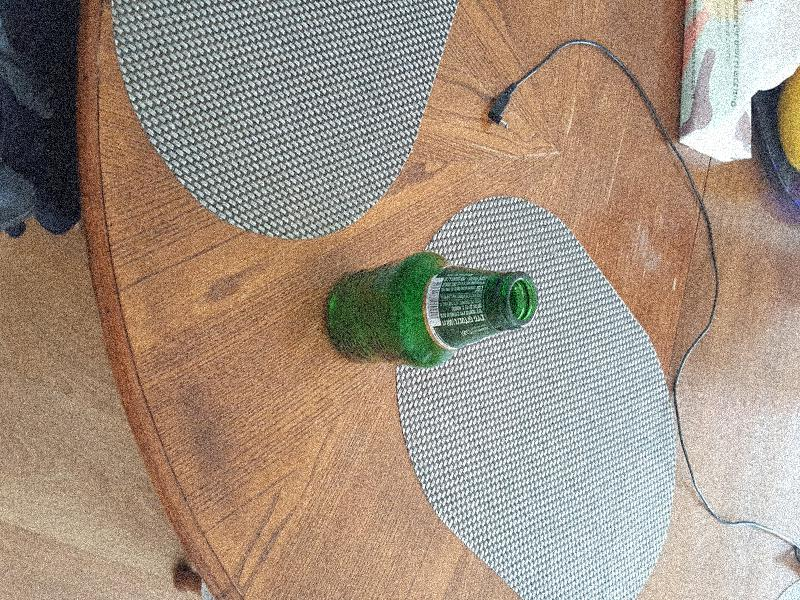Beer: (324, 255, 539, 366)
